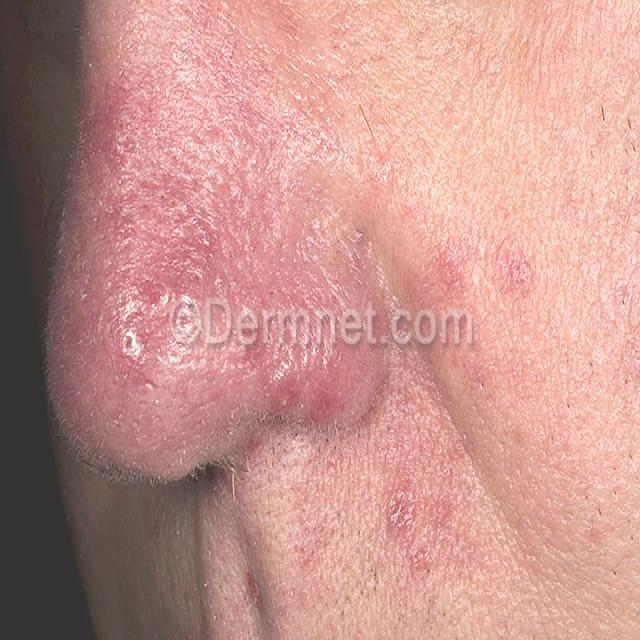Rosacea: (52, 39, 384, 454), (272, 326, 462, 584)
